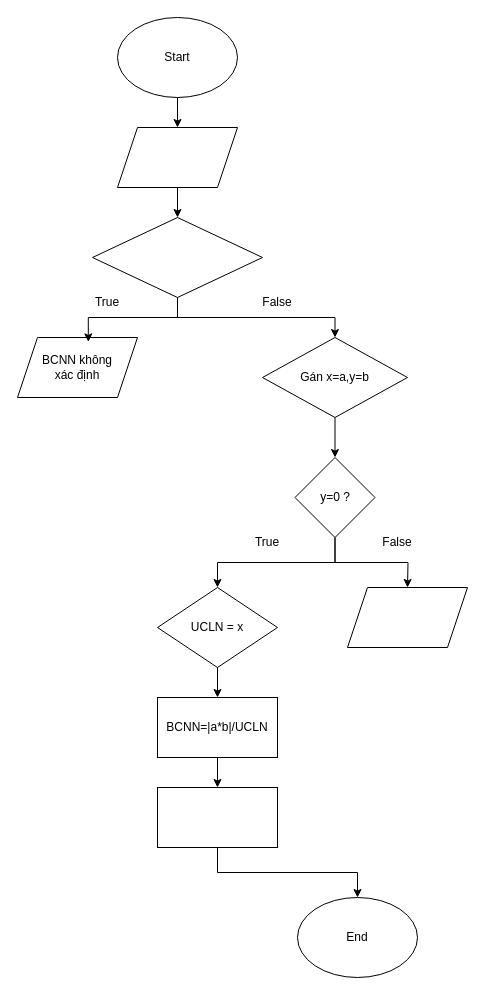
The diagram is 485 pixels wide and 995 high, and some of its shapes have lost their labels. Here are the shapes that lost their labels. From the top down, the centre of each, then its label:
At point 177,157: "Nhập a,b".
At point 177,257: "a=0 hoặc b=0 ?".
At point 407,617: "r=x mod y x =y,y=r".
At point 217,817: "Hiển thị BCNN".
